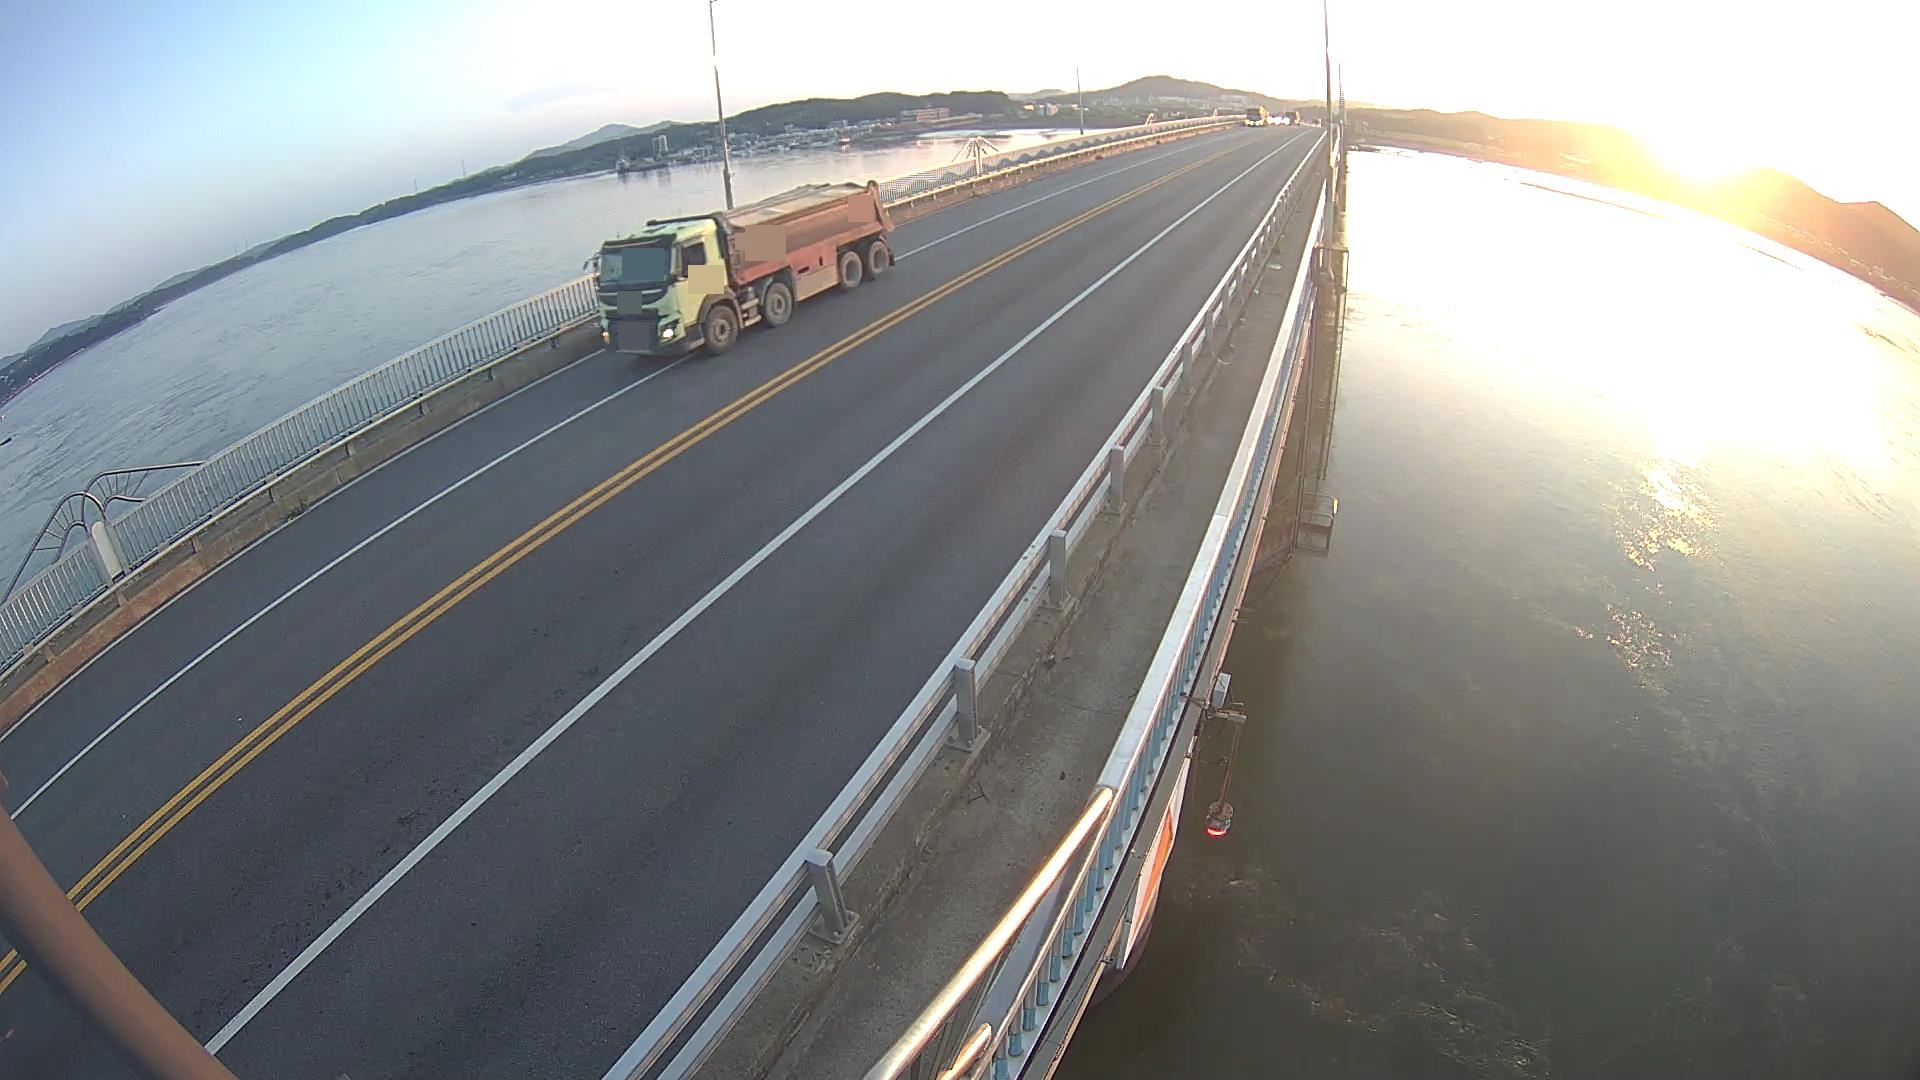정상차량: (583, 179, 897, 355)
